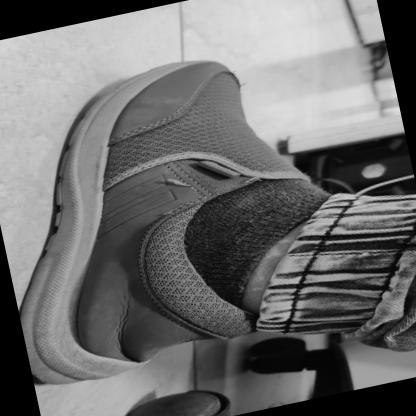ankle: (155, 238, 178, 250)
heel: (43, 371, 63, 385)
left_foot: (1, 43, 331, 393)
pinky: (159, 72, 178, 84)
toe: (229, 88, 239, 95)
